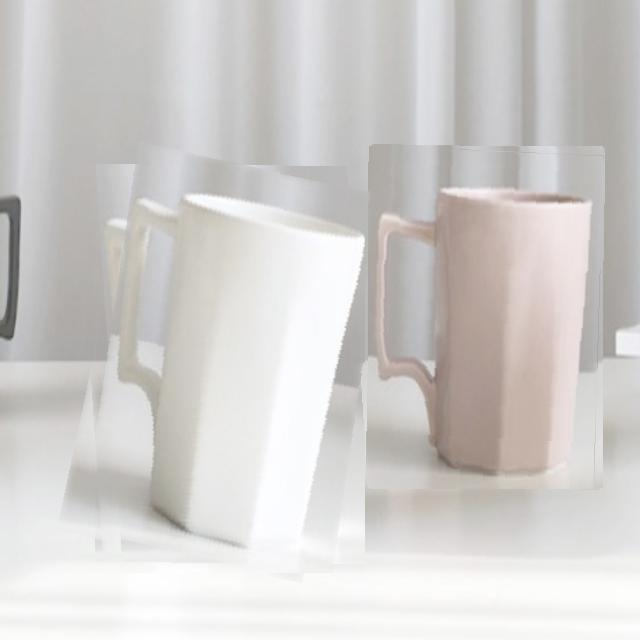recyclable: (76, 153, 365, 573), (368, 145, 604, 489)
